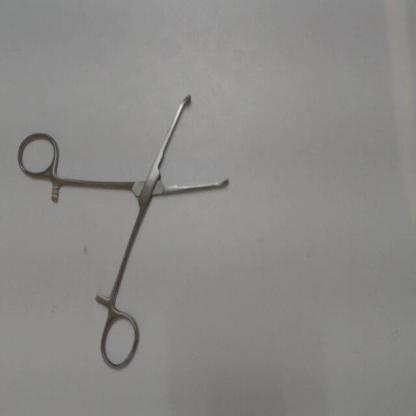Allis Tissue Forceps: (12, 82, 240, 378)
